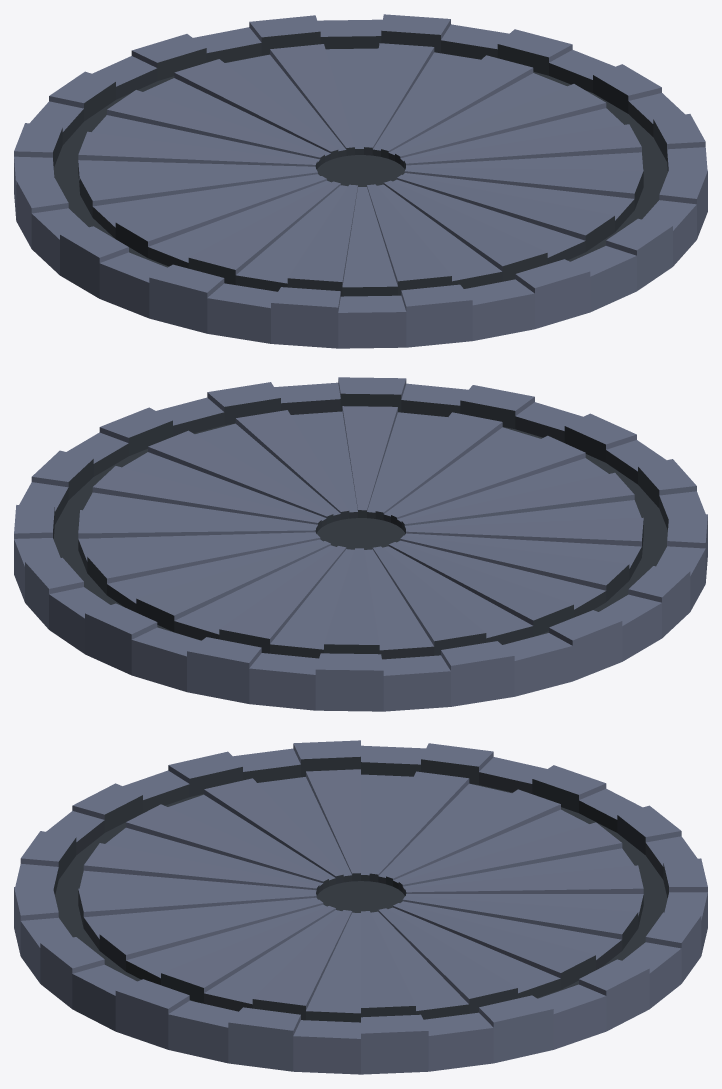
The model's file is brunnslock.fbx.
3 views of the same model, one above another, from view 1: azimuth 30°, elevation 25°; view 2: azimuth 150°, elevation 25°; view 3: azimuth 270°, elevation 25° (orthographic).
Parts seen in each view (by area): view 1: Cylinder; view 2: Cylinder; view 3: Cylinder.
Part boxes in pixels (x1,y1,x2,y2): Cylinder: (14,14,707,348); Cylinder: (14,377,707,711); Cylinder: (14,740,707,1074).
Size of the model in its own units: 145 by 145 by 9.45.
